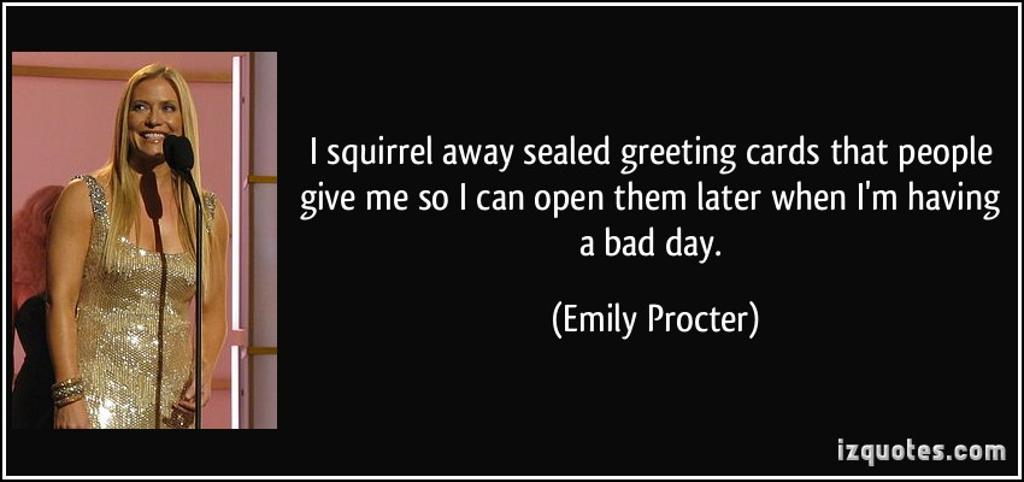face: (128, 78, 182, 156)
